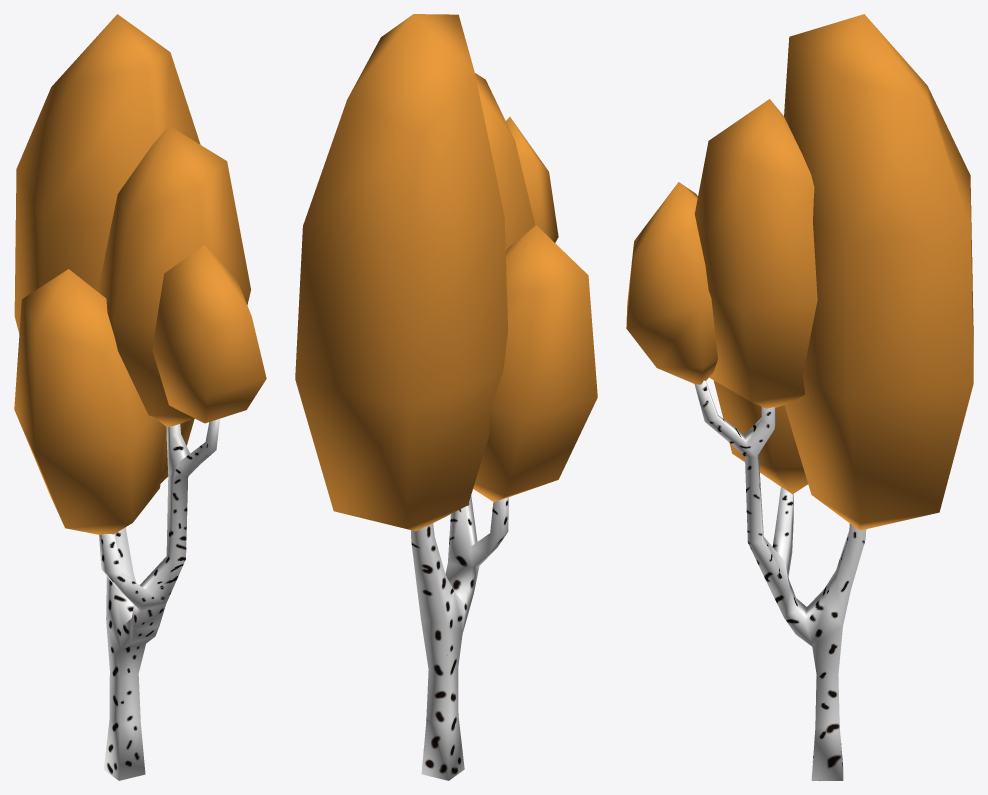
Rendered from eucalyptus.glb.
The picture shows the model from 3 angles, left to right: view 1: azimuth 30°, elevation 25°; view 2: azimuth 150°, elevation 25°; view 3: azimuth 270°, elevation 25°; orthographic projection. The views are drawn at different scales.
Visible parts, largest first — view 1: Cube; view 2: Cube; view 3: Cube.
Boxes of the visible parts, bbox=[...] form: Cube: bbox=[14, 14, 266, 780]; Cube: bbox=[295, 14, 597, 780]; Cube: bbox=[626, 14, 973, 780].
Size of the model in its own units: 19.11 by 59.95 by 24.63.
Materials: 2 (1 with a texture image).
